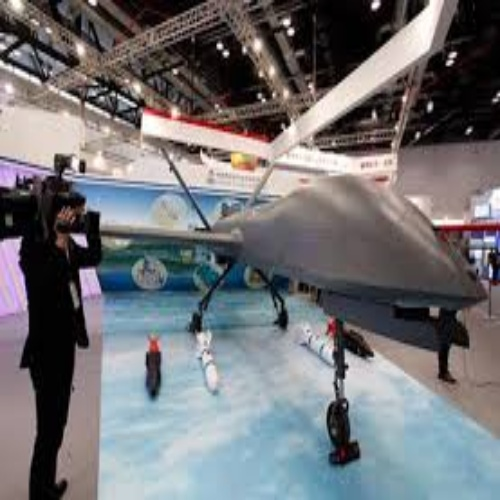uav: (95, 149, 489, 337)
